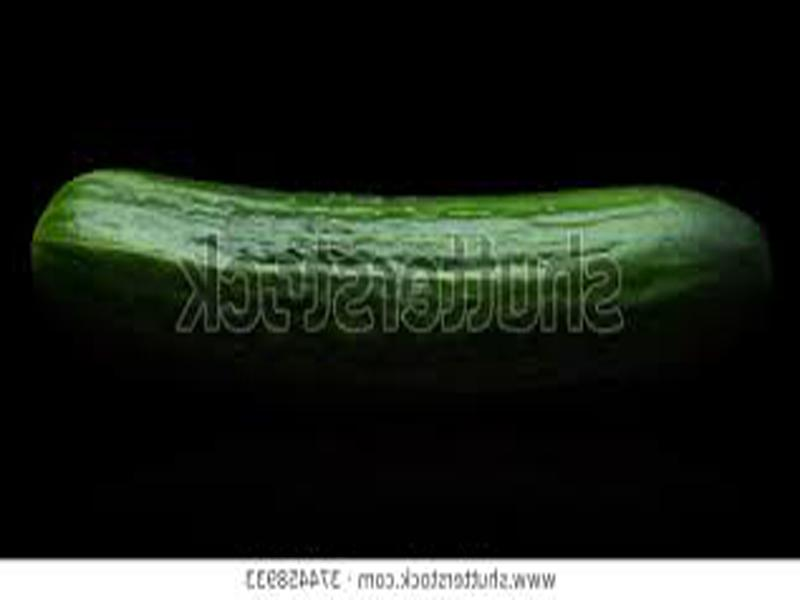Cucumber: (27, 174, 769, 340)
